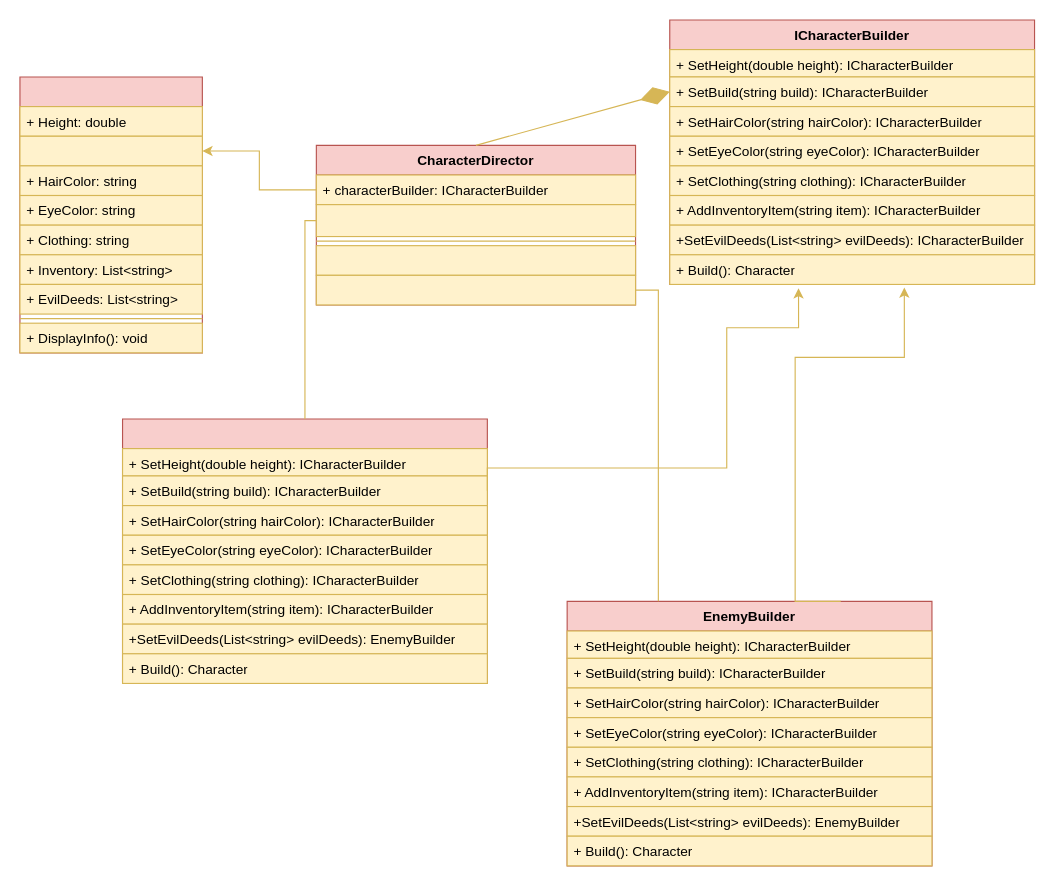
Image size: 1055x889. Some labels were removed from this diagram. Here are the shapes that lost their labels. From the top down, the box of each, then its label:
(19, 135, 202, 166): + Build: string
(19, 76, 202, 353): Character
(315, 203, 636, 237): + ICharacterBuilder builder: CharacterDirector
(315, 245, 636, 275): + ConstructCharacter(): Character
(315, 274, 636, 305): + ConstructEnemy(): Character
(121, 418, 487, 683): HeroBuilder
